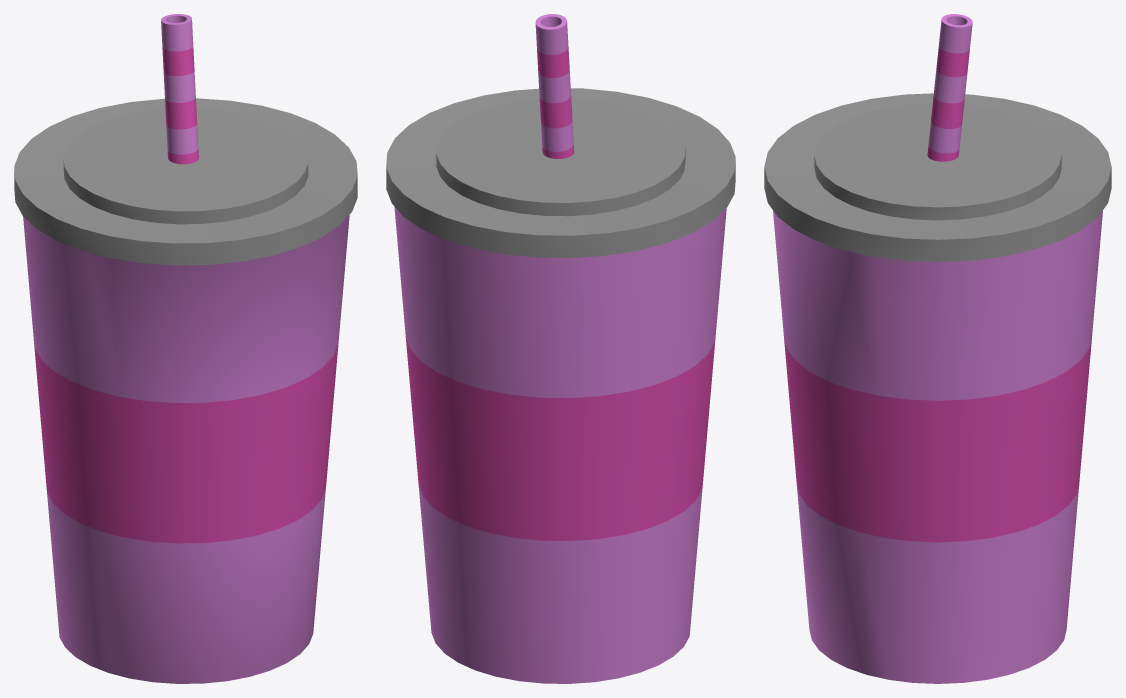
The model's file is Comida_VR13.fbx.
3 renders of one model, left to right at view 1: azimuth 30°, elevation 25°; view 2: azimuth 150°, elevation 25°; view 3: azimuth 270°, elevation 25°, orthographic.
Parts seen in each view (by area): view 1: Chum Shake; view 2: Chum Shake; view 3: Chum Shake.
Boxes of the visible parts, left/top/right/bottom form: Chum Shake: left=14, top=14, right=357, bottom=683; Chum Shake: left=386, top=14, right=735, bottom=683; Chum Shake: left=764, top=14, right=1111, bottom=683.
Size of the model in its own units: 137 by 265 by 137.
